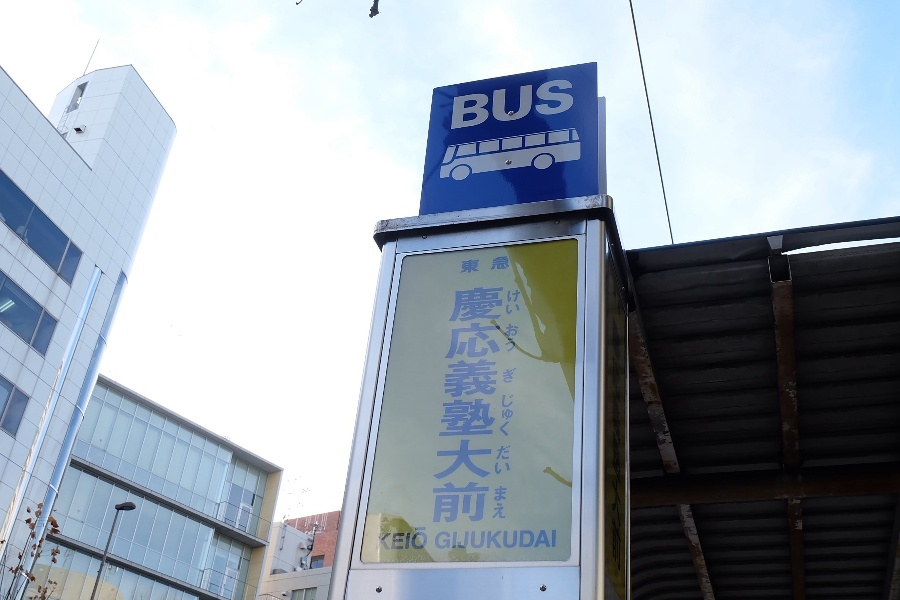text: (465, 287, 480, 523), (481, 287, 496, 523), (452, 287, 464, 523), (613, 318, 624, 575), (497, 287, 504, 523), (465, 78, 480, 131), (481, 78, 496, 131), (497, 78, 512, 131), (513, 78, 528, 131), (529, 78, 544, 131), (545, 78, 560, 131), (561, 78, 574, 131), (454, 78, 464, 131), (497, 445, 512, 475), (502, 395, 512, 436), (385, 528, 400, 550), (401, 528, 416, 550), (497, 487, 507, 519), (449, 530, 464, 549), (465, 530, 480, 549), (481, 530, 496, 549), (497, 530, 512, 549), (513, 530, 528, 549), (529, 530, 544, 549), (465, 256, 480, 274), (481, 256, 496, 274), (417, 528, 429, 550), (436, 530, 448, 549), (504, 324, 512, 352), (497, 256, 509, 274), (545, 530, 556, 549), (513, 290, 520, 315), (513, 324, 519, 352), (503, 368, 512, 383), (379, 528, 384, 550), (508, 290, 512, 315), (513, 368, 517, 383), (461, 256, 464, 274), (513, 395, 514, 436), (495, 487, 496, 519)
